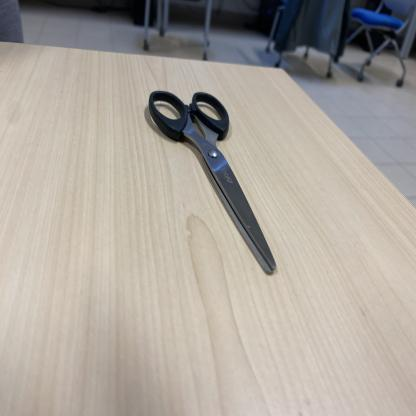scissors: (147, 91, 278, 276)
